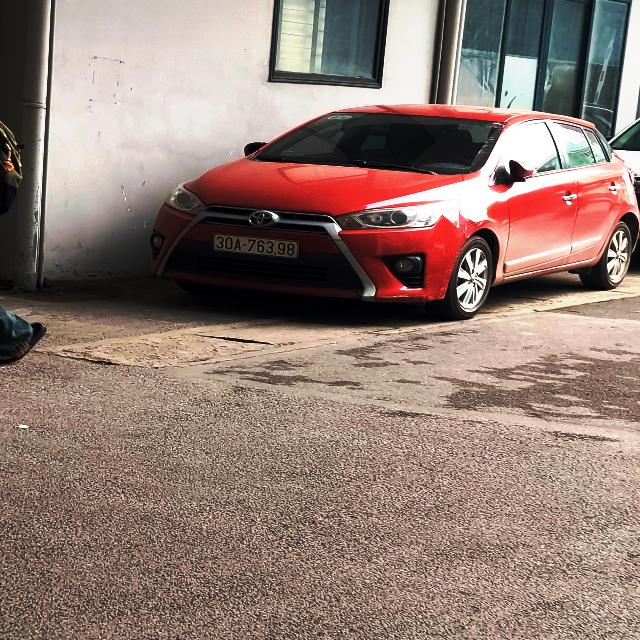license_plate: (213, 234, 299, 260)
